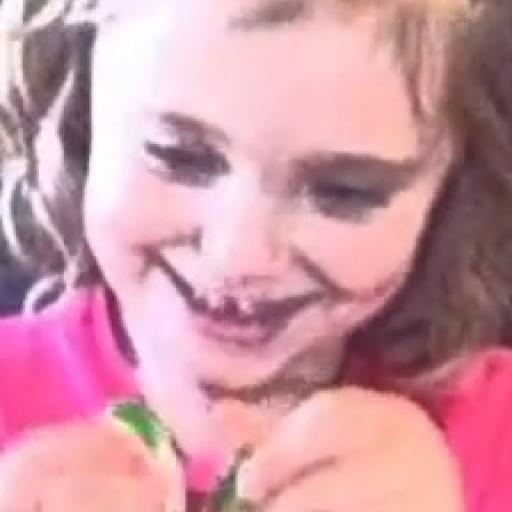Autism: (50, 8, 447, 420)
